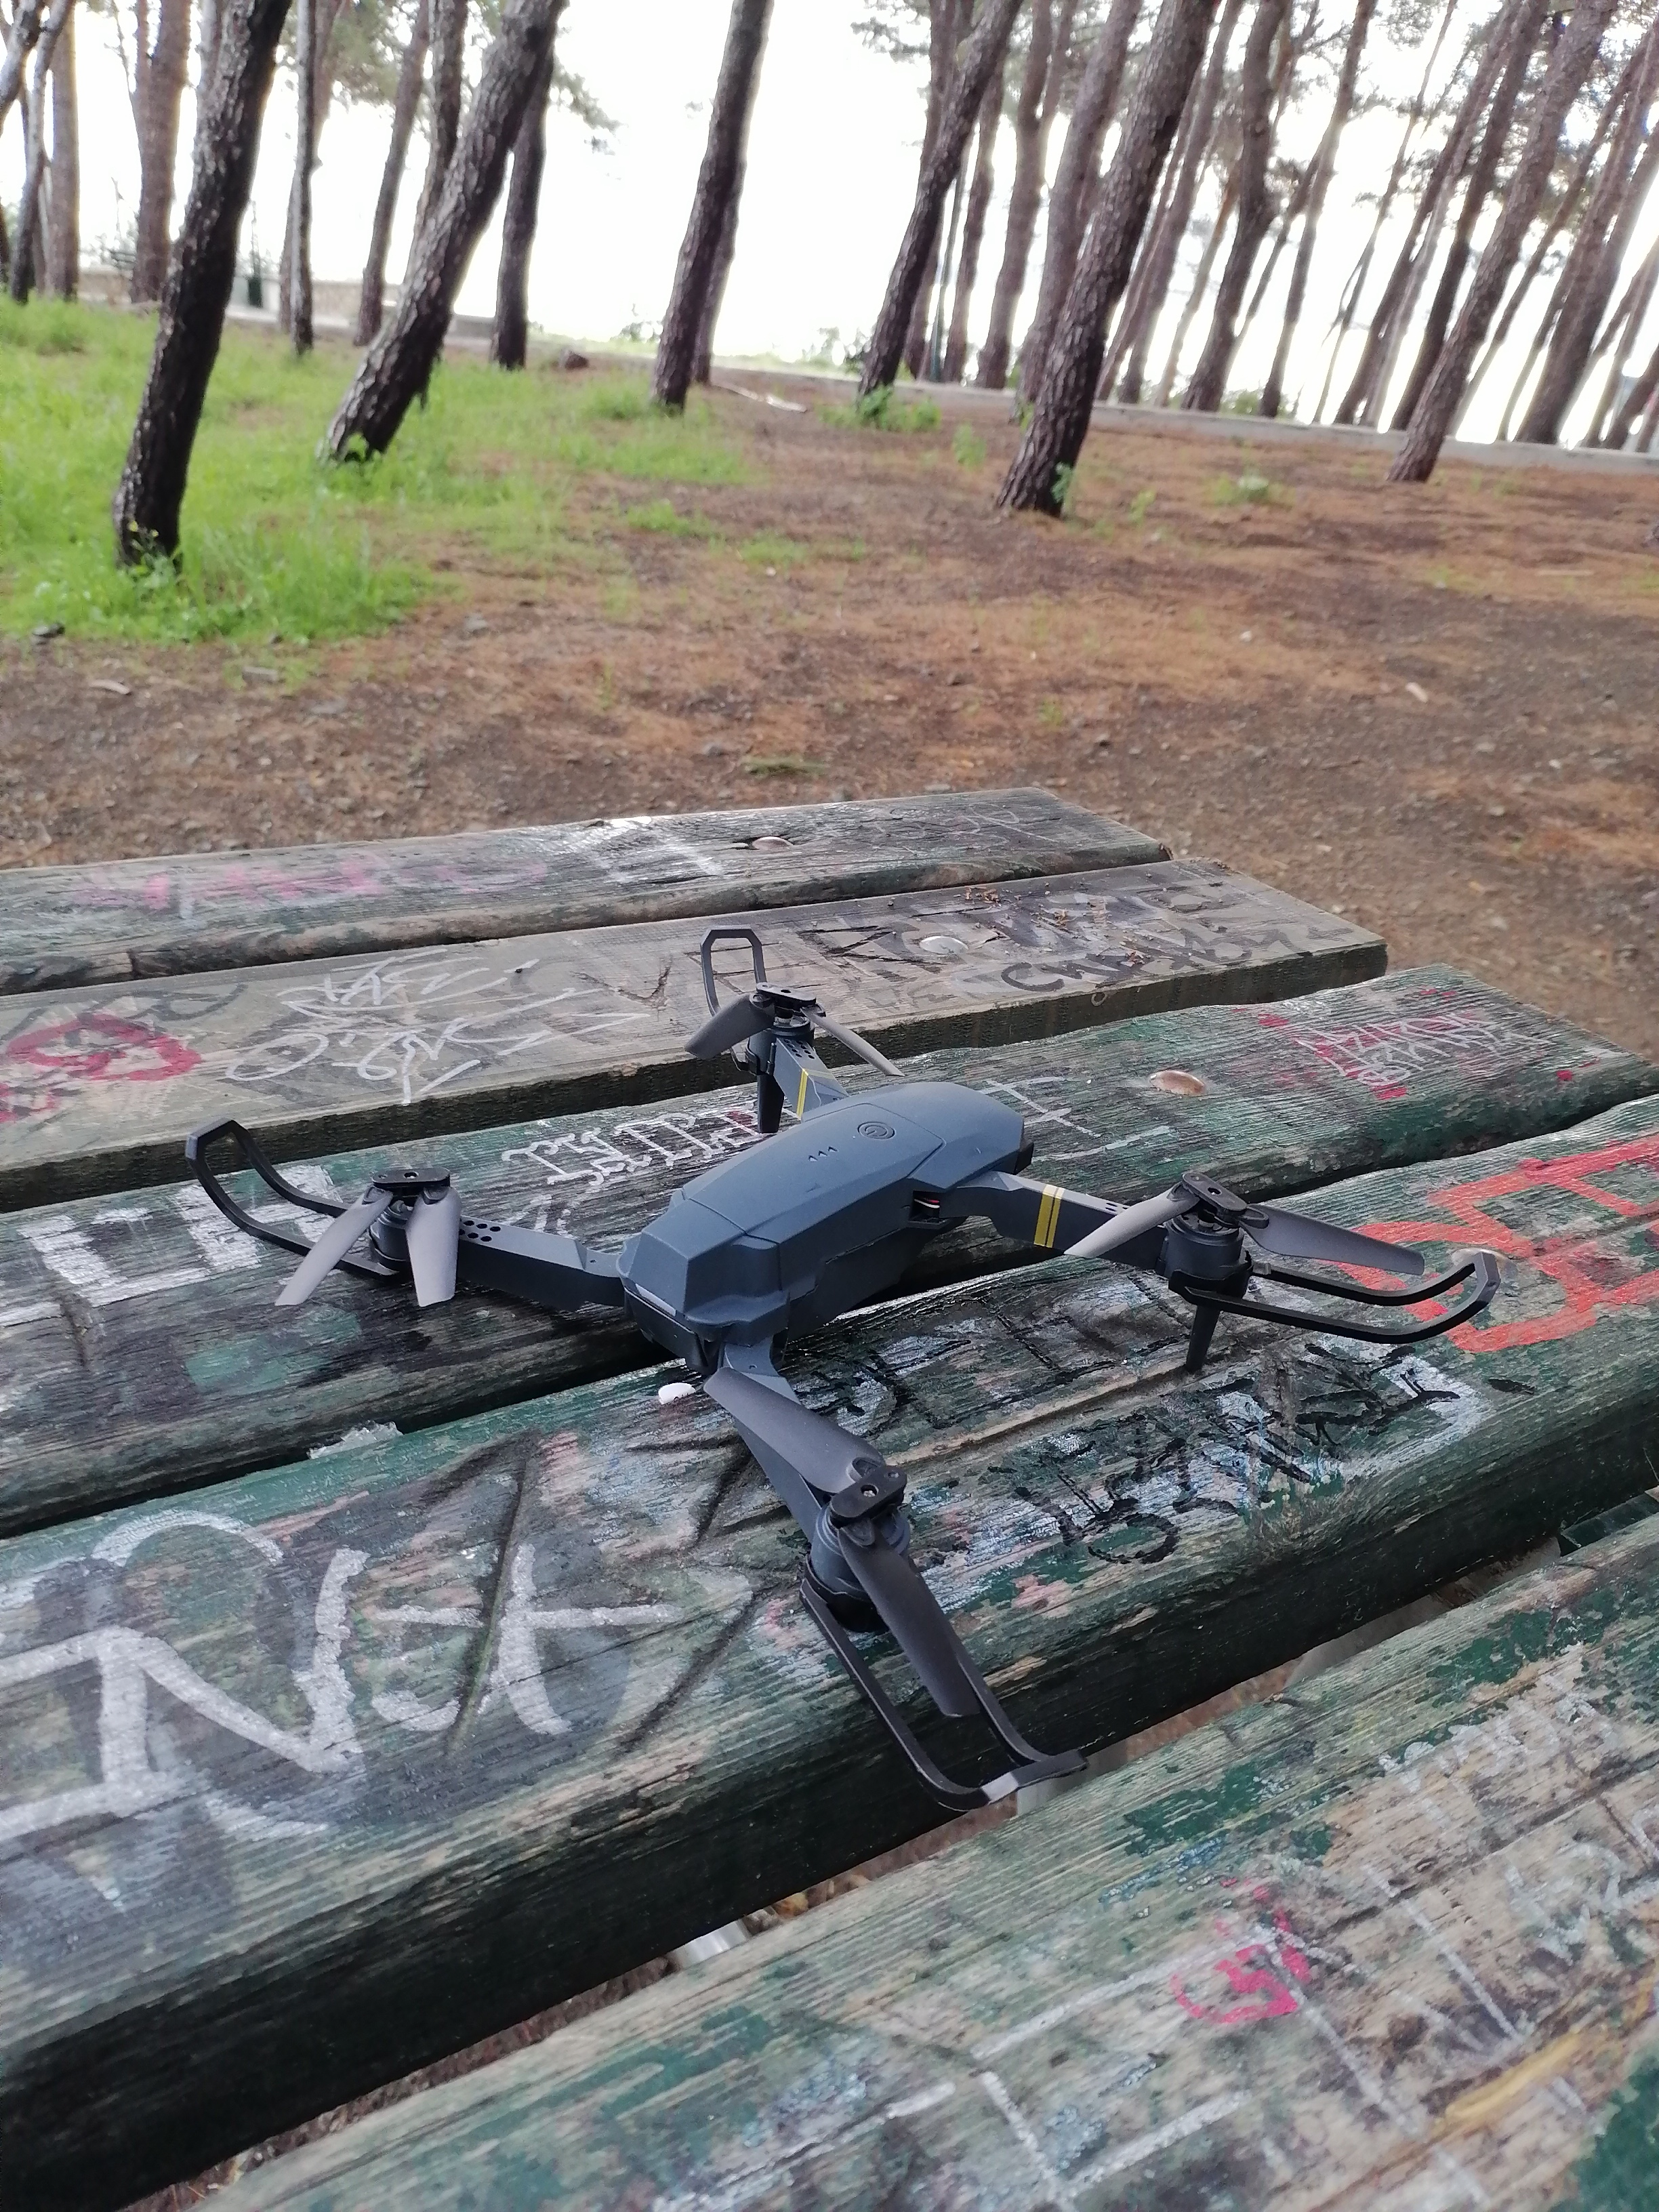drone: (286, 1014, 1481, 1784)
